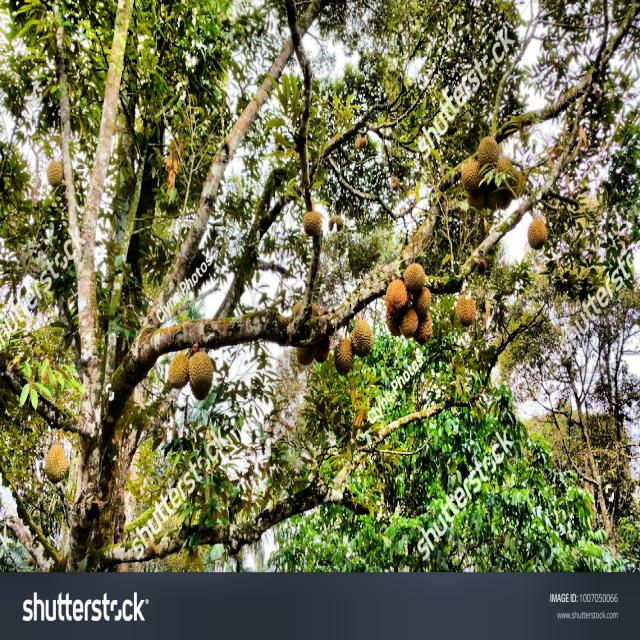arvore: (56, 99, 176, 568)
